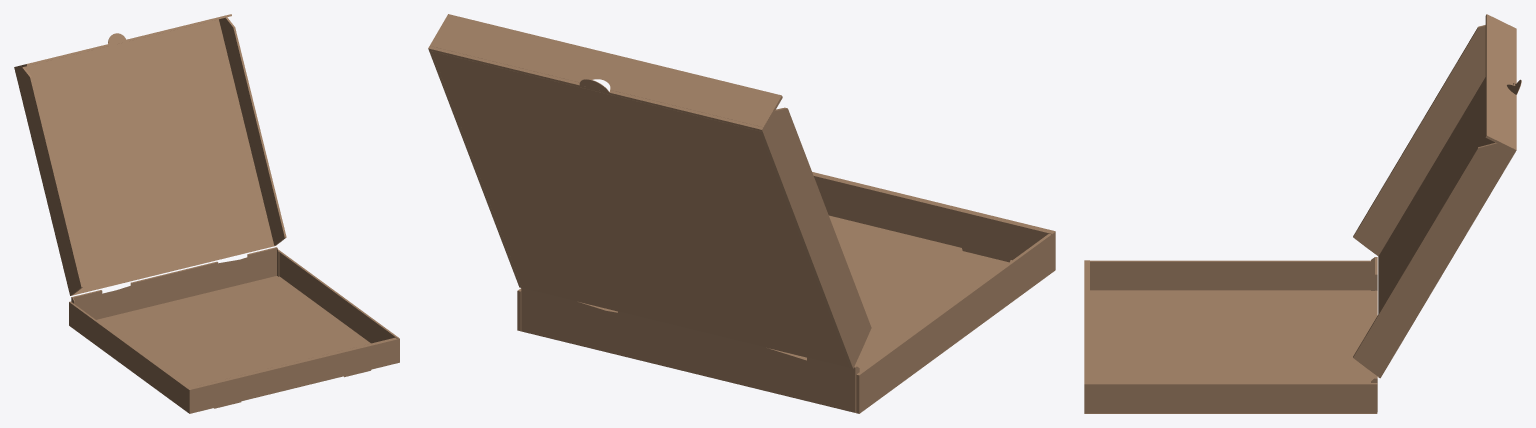
File: Pizza_Box_01 1.fbx
3 renders of one model, left to right at view 1: azimuth 30°, elevation 25°; view 2: azimuth 150°, elevation 25°; view 3: azimuth 270°, elevation 25°, orthographic. The views are drawn at different scales.
Parts seen in each view (by area): view 1: Box_top, Box; view 2: Box_top, Box; view 3: Box, Box_top.
Part boxes in pixels (<box>): Box_top: <box>14,14,286,295</box>; Box: <box>69,247,399,413</box>; Box_top: <box>428,14,871,368</box>; Box: <box>517,172,1055,413</box>; Box: <box>1084,257,1377,413</box>; Box_top: <box>1353,14,1521,378</box>.
Bounding box in the file's own units: 0.3398 × 0.3573 × 0.5042.
